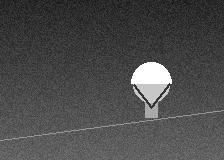helmet: (131, 62, 171, 107)
